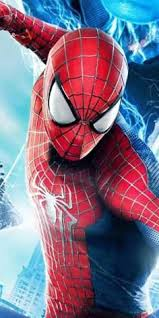Object-Detection: (3, 0, 159, 318)
